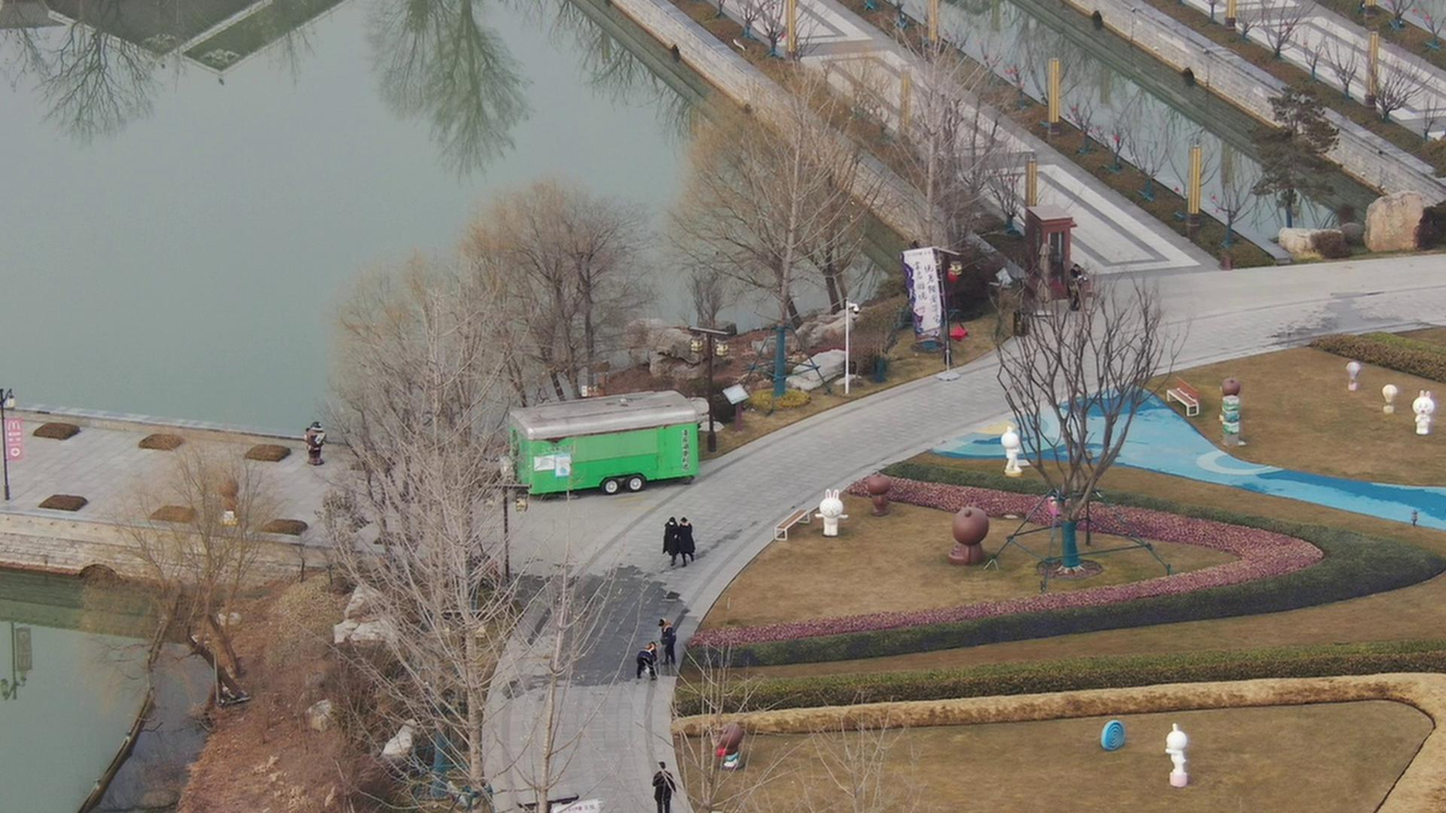class_2: (658, 514, 694, 579)
human: (651, 760, 678, 813), (638, 641, 660, 699), (655, 615, 678, 669)
